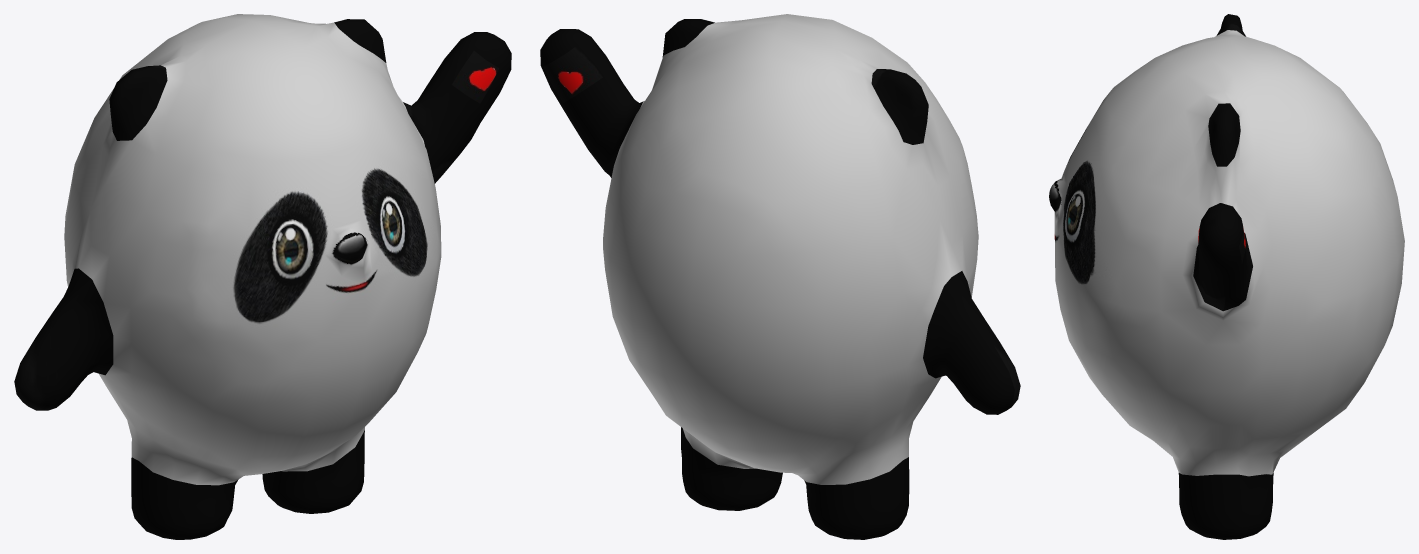
File: dog.glb
3 views of the same model, side by side, from view 1: azimuth 30°, elevation 25°; view 2: azimuth 150°, elevation 25°; view 3: azimuth 270°, elevation 25° (orthographic). The views are drawn at different scales.
Visible parts, largest first — view 1: 1.002; view 2: 1.002; view 3: 1.002.
Part boxes in pixels (box(x1,y1,x2,y2)): 1.002: box(14, 14, 511, 539); 1.002: box(540, 14, 1020, 539); 1.002: box(1049, 14, 1404, 539).
Bounding box in the file's own units: 7.11 × 6.79 × 4.9.
1 material, 1 textured.
